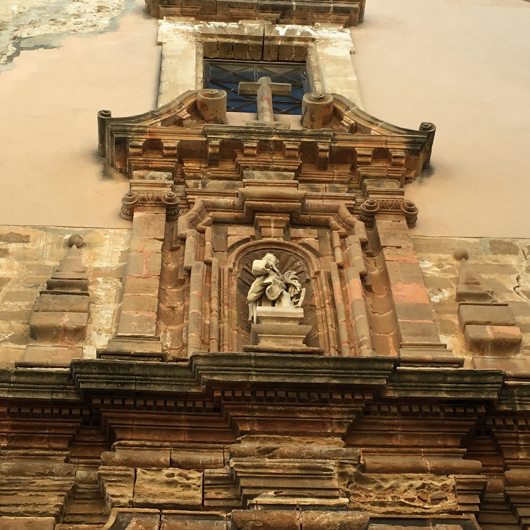fronton-partido: (92, 87, 442, 145)
